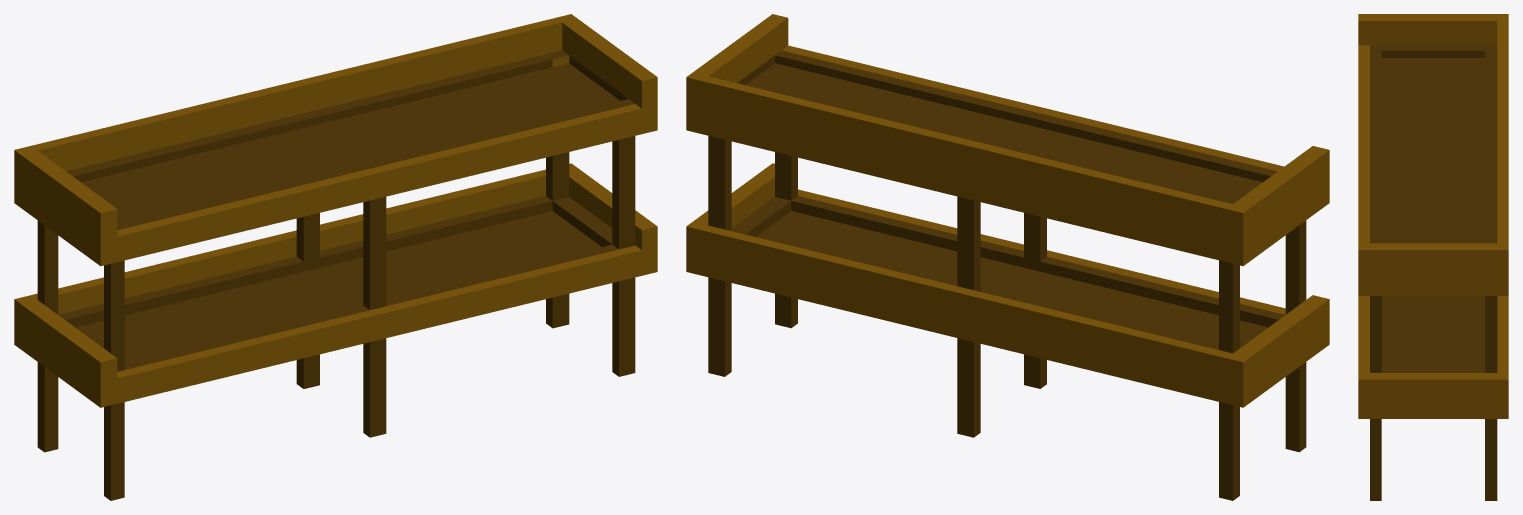
File: Sitting floor.fbx
3 views of the same model, side by side, from view 1: azimuth 30°, elevation 25°; view 2: azimuth 150°, elevation 25°; view 3: azimuth 270°, elevation 25° (orthographic). The views are drawn at different scales.
Parts seen in each view (by area): view 1: pCube43; view 2: pCube43; view 3: pCube43.
Boxes of the visible parts, x1,y1,x2,y2 form: pCube43: [14, 14, 657, 500]; pCube43: [686, 14, 1329, 500]; pCube43: [1358, 14, 1508, 500].
Size of the model in its own units: 9.77 by 4.97 by 2.62.
